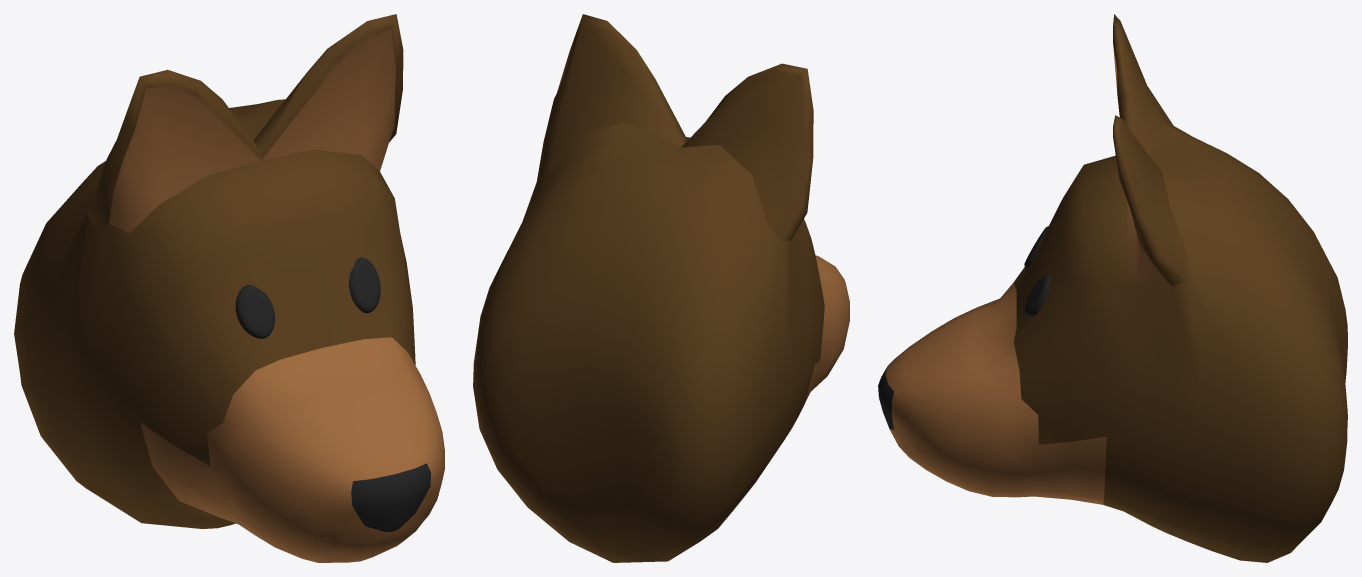
The model's file is DogModel.glb.
3 views of the same model, side by side, from view 1: azimuth 30°, elevation 25°; view 2: azimuth 150°, elevation 25°; view 3: azimuth 270°, elevation 25° (orthographic). The views are drawn at different scales.
Parts seen in each view (by area): view 1: cachorro; view 2: cachorro; view 3: cachorro.
Boxes of the visible parts, x1,y1,x2,y2 form: cachorro: [14, 14, 444, 562]; cachorro: [473, 14, 849, 562]; cachorro: [878, 14, 1347, 562].
Size of the model in its own units: 0.6615 by 1.1 by 0.9646.
